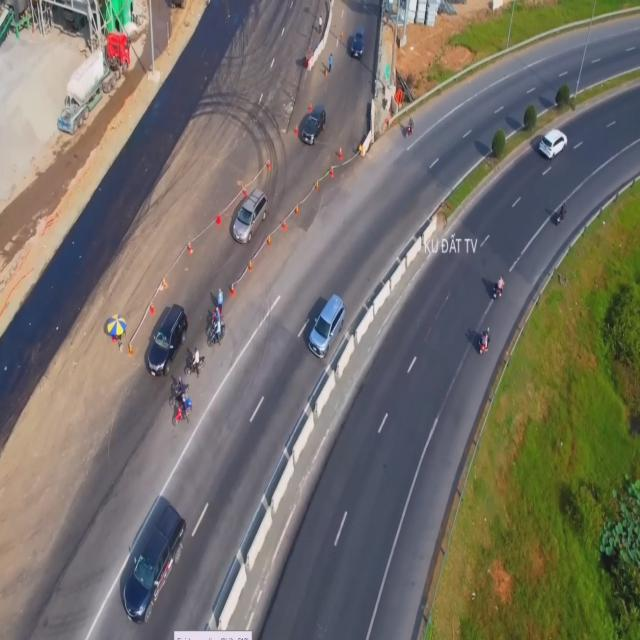car: (118, 493, 186, 625), (146, 300, 185, 375), (308, 293, 345, 357), (231, 183, 269, 245), (302, 105, 326, 147), (346, 28, 368, 64), (542, 131, 568, 159)
motorbike: (172, 394, 192, 426), (183, 353, 205, 380), (208, 321, 227, 348), (478, 325, 496, 352), (556, 198, 570, 225), (494, 274, 508, 299)
